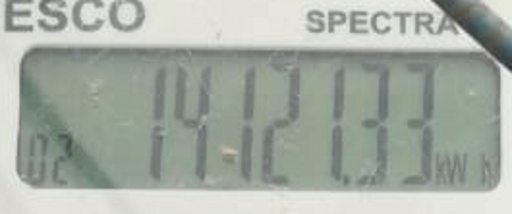1: (126, 56, 169, 190), (219, 54, 262, 188), (310, 54, 353, 188)
2: (260, 51, 303, 185)
3: (353, 56, 396, 190), (396, 56, 439, 190)
4: (171, 58, 214, 192)
d: (341, 168, 356, 190)
